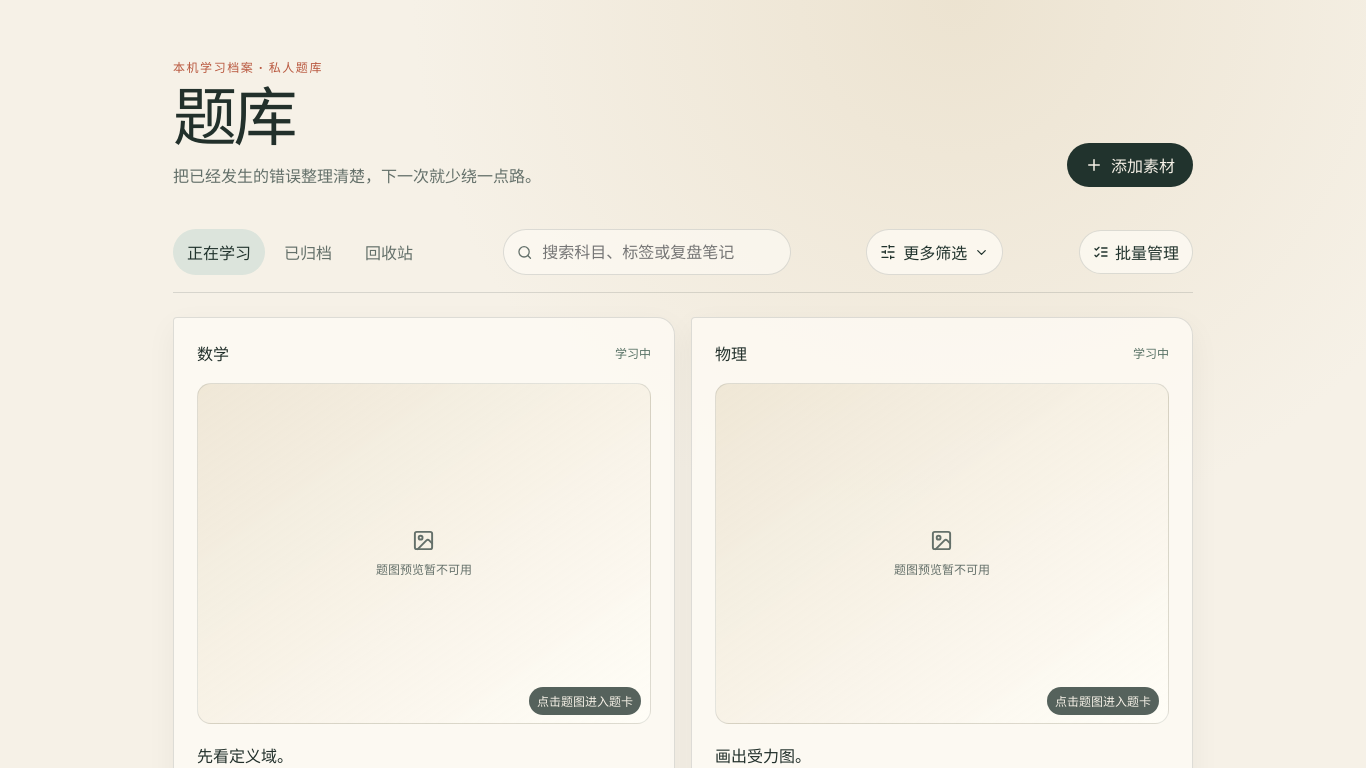
Test: LibraryView manual review deck › schedules sync after a batch status change but not after a failed change
Expected: the text "先看定义域。" is shown, [197, 744, 293, 766]
Click the button "批量管理".
click(1136, 252)  # box [1079, 230, 1193, 274]
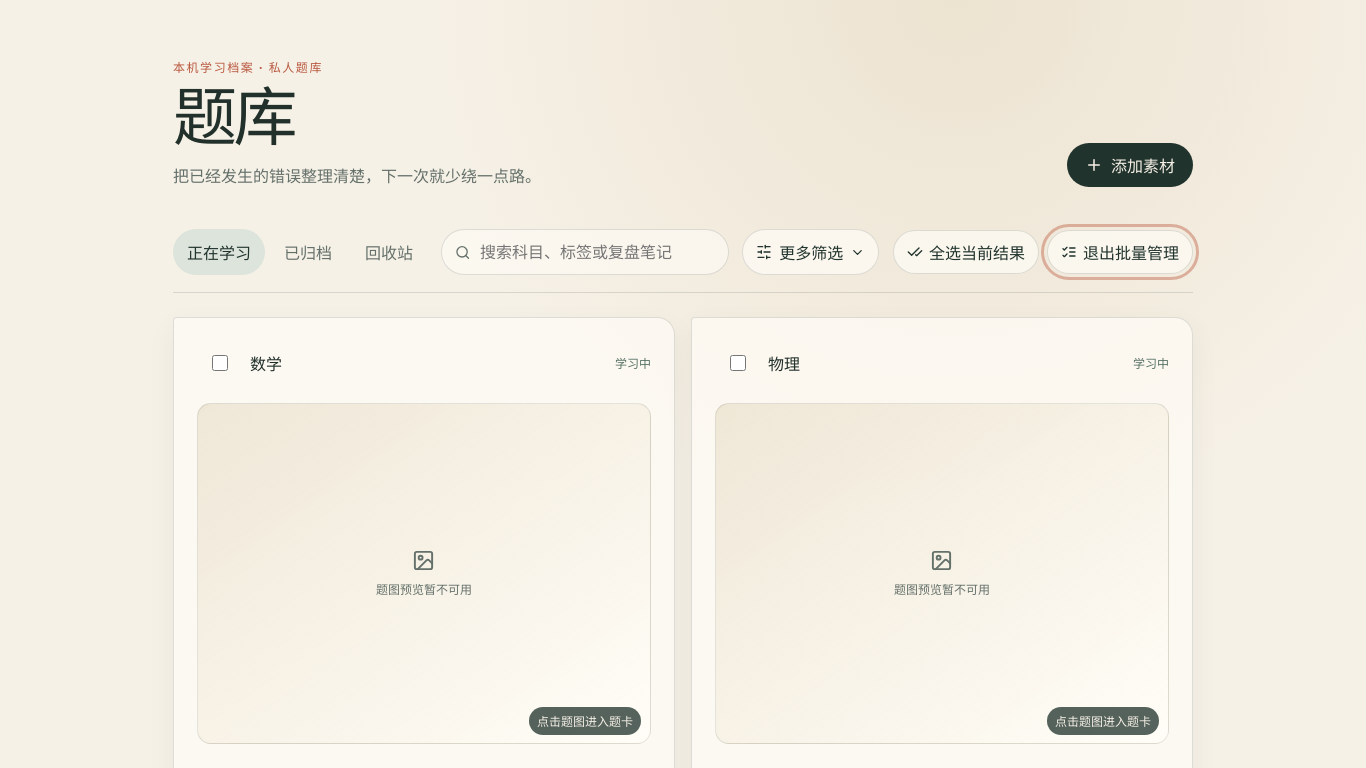
Click the checkbox named "选择 数学 错题".
click(220, 363)  # box [212, 355, 228, 371]
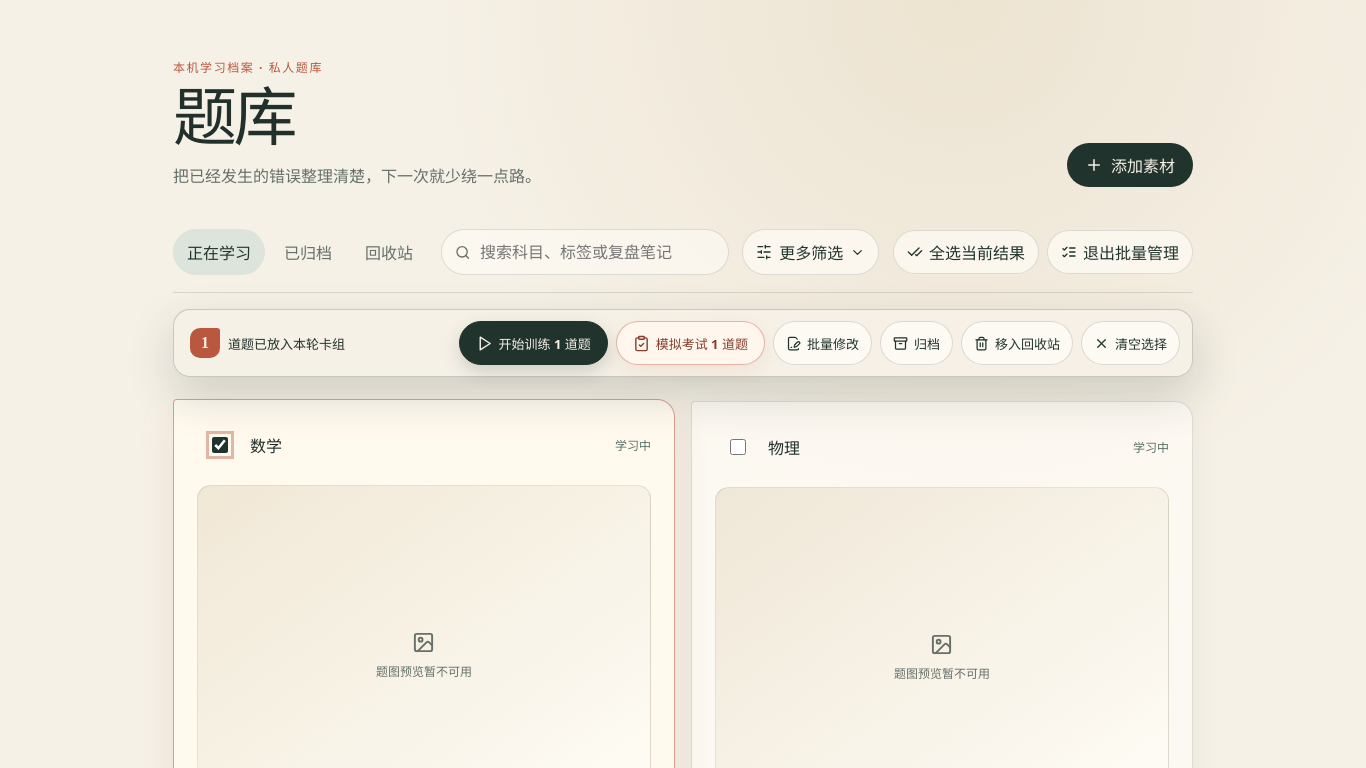
Click the button "移入回收站".
click(1017, 343)  # box [961, 321, 1073, 365]
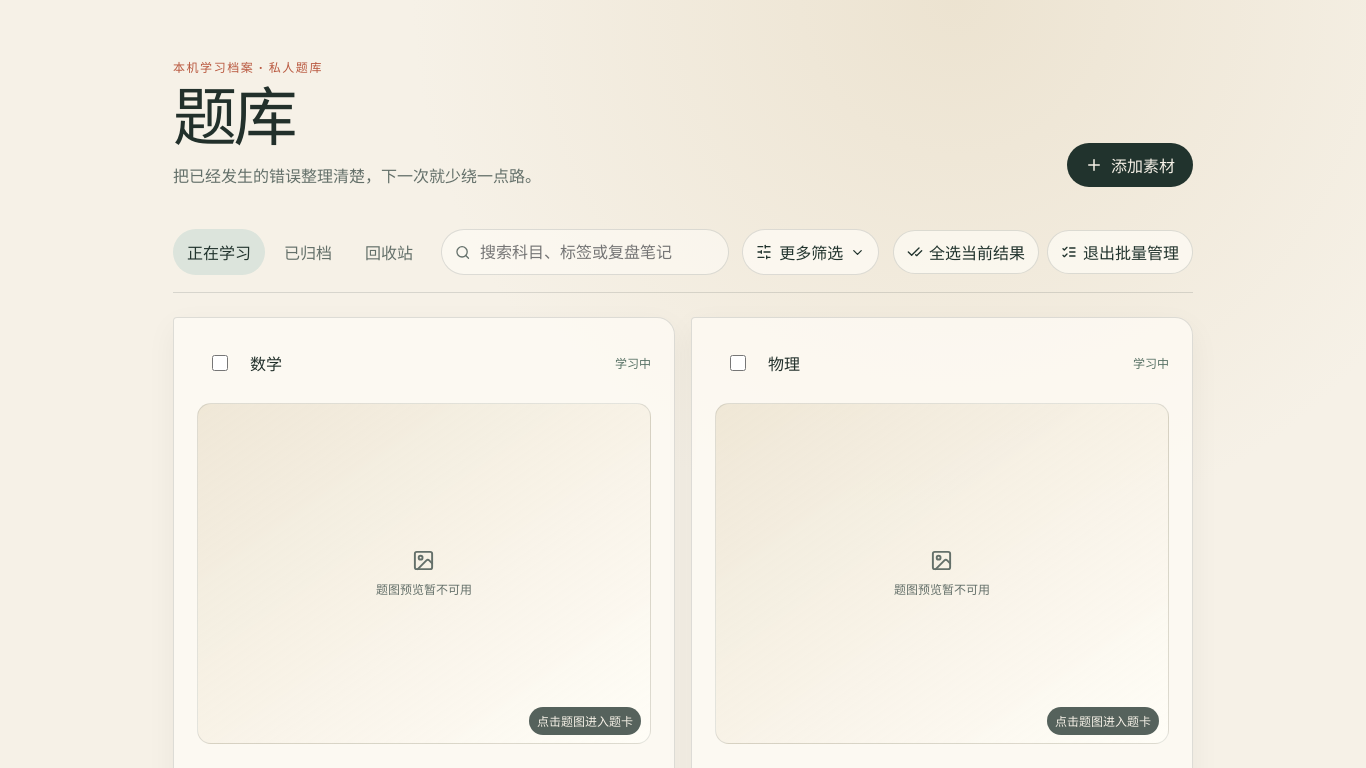
Click the checkbox named "选择 数学 错题".
click(220, 363)  # box [212, 355, 228, 371]
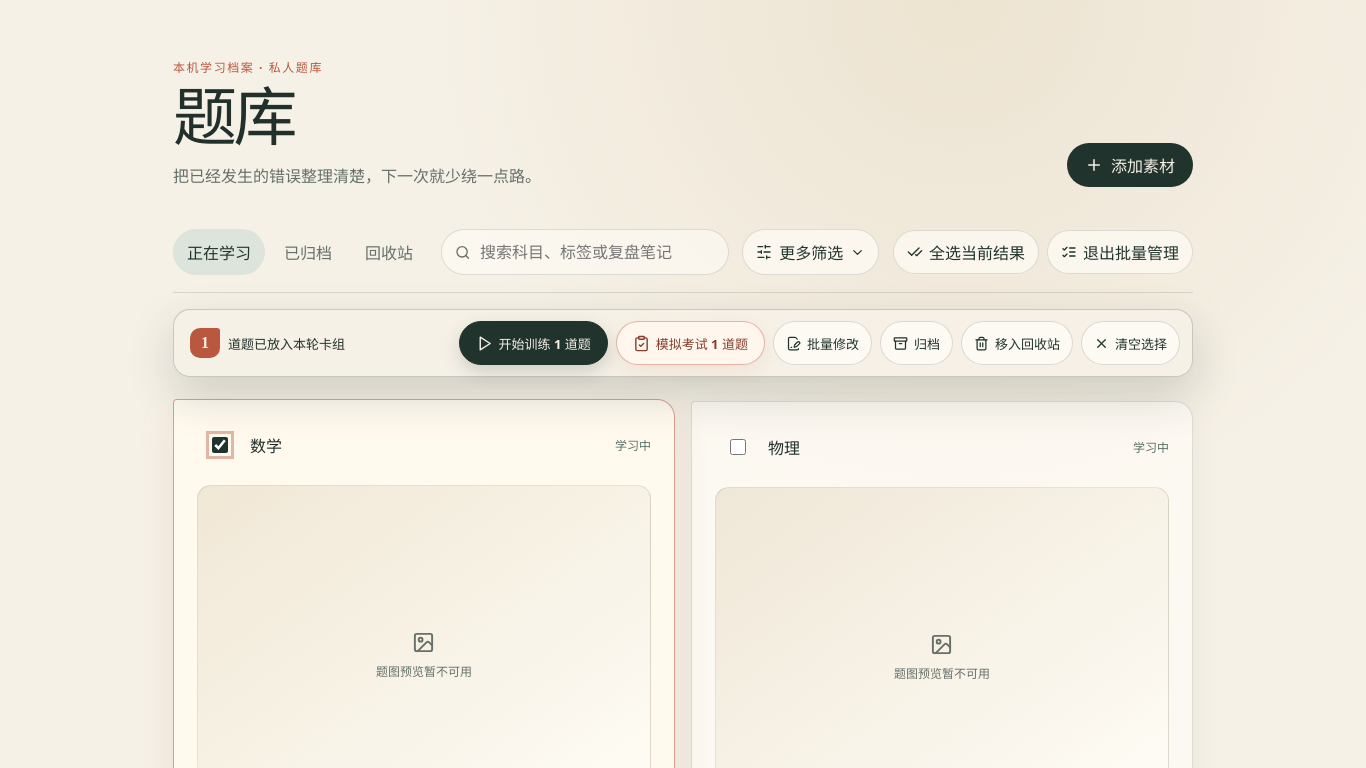
Click the button "移入回收站".
click(1017, 343)  # box [961, 321, 1073, 365]
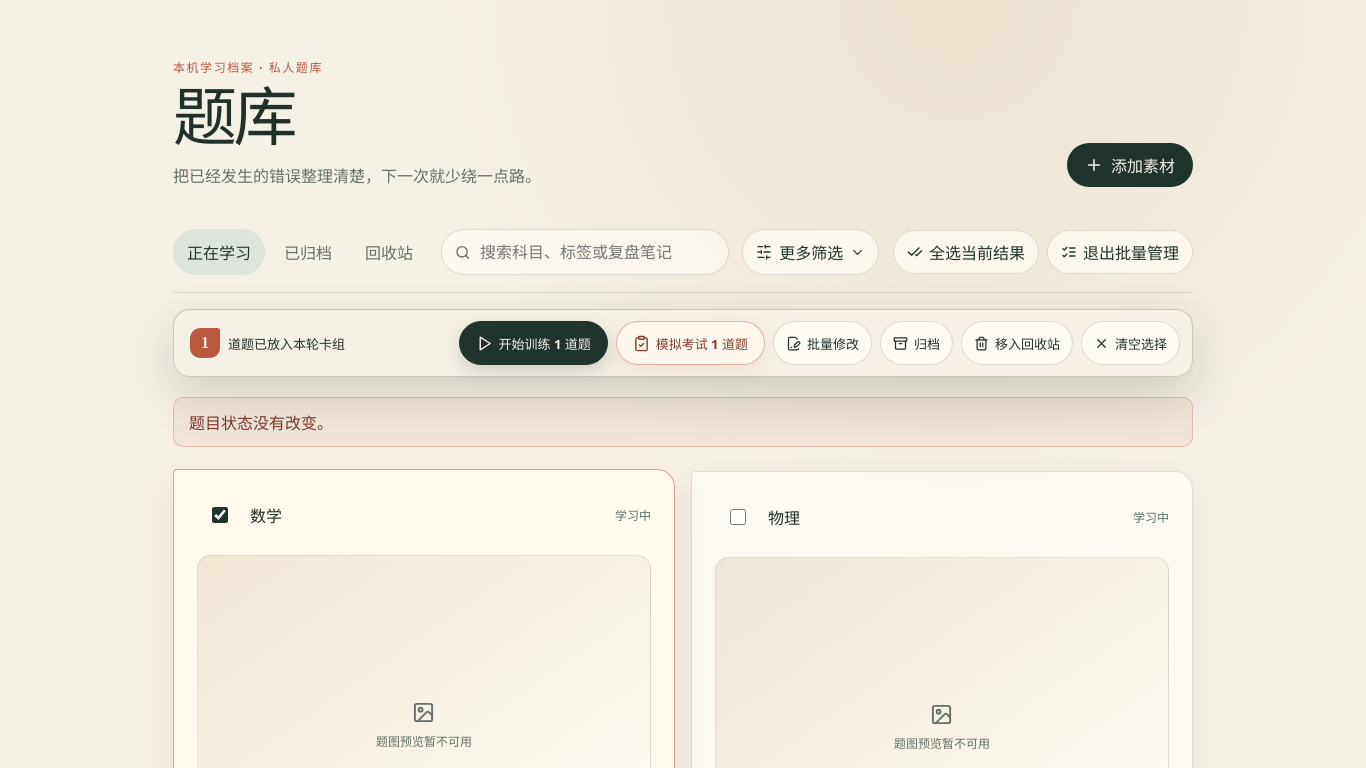
Now the message "题目状态没有改变。" is shown, box [173, 397, 1193, 447]
